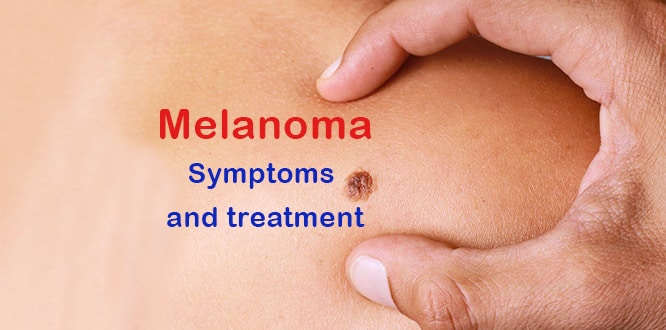melanoma: (336, 156, 404, 221)
